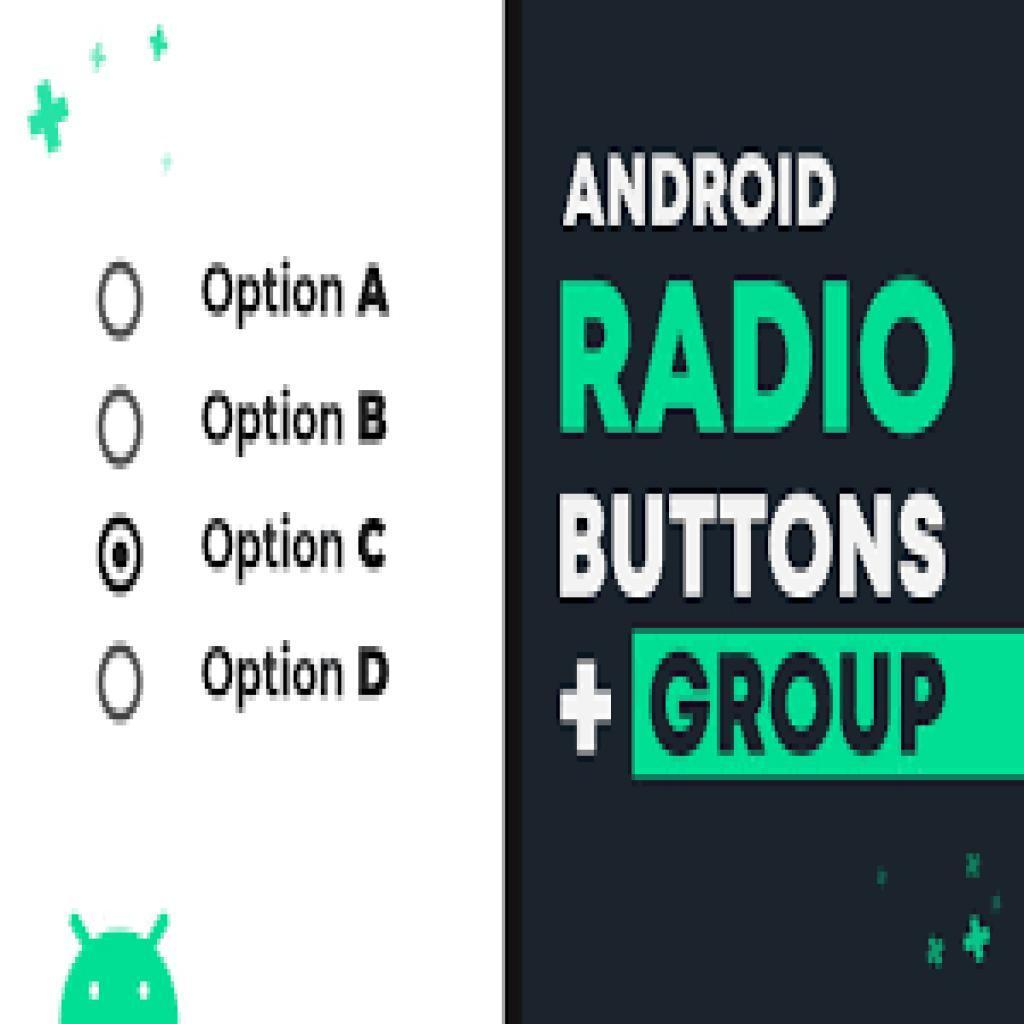label: (193, 632, 401, 709), (193, 257, 394, 325), (203, 510, 391, 578), (202, 390, 393, 447)
radio: (94, 257, 152, 345), (95, 382, 149, 476), (92, 512, 145, 604), (92, 641, 148, 725)
